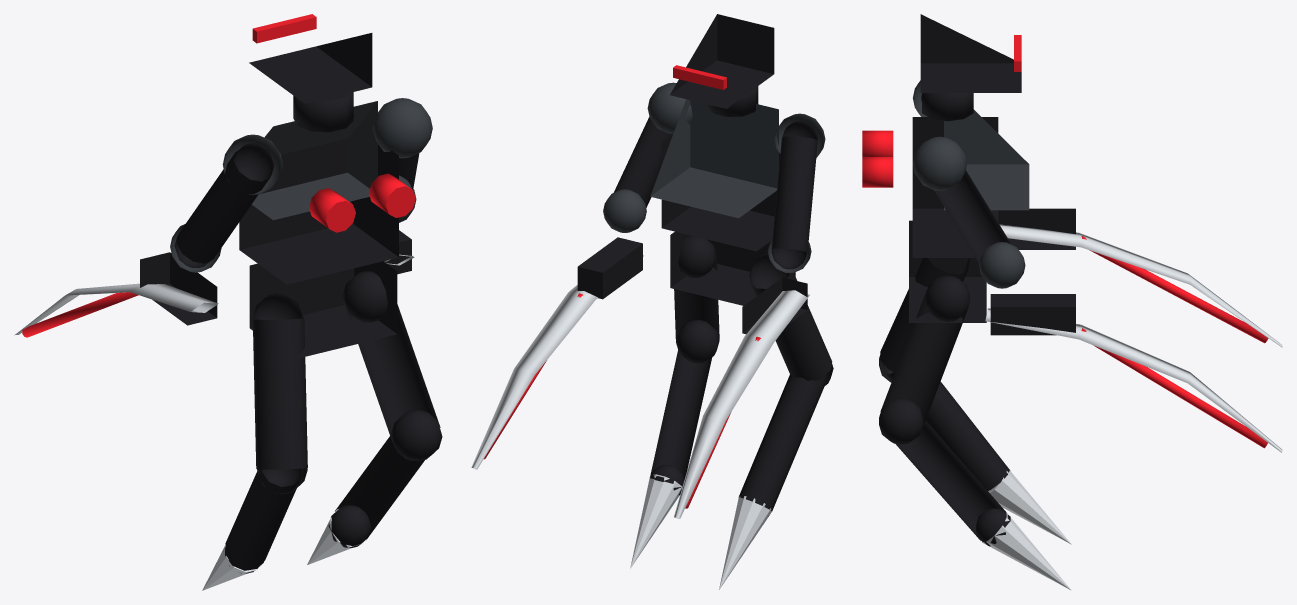
Rendered from Robot_Blade.obj.
3 renders of one model, left to right at view 1: azimuth 30°, elevation 25°; view 2: azimuth 150°, elevation 25°; view 3: azimuth 270°, elevation 25°, orthographic. The views are drawn at different scales.
Parts seen in each view (by area): view 1: Robot_Blade; view 2: Robot_Blade; view 3: Robot_Blade.
Boxes of the visible parts, x1,y1,x2,y2 form: Robot_Blade: (14, 14, 442, 590); Robot_Blade: (471, 14, 833, 589); Robot_Blade: (862, 14, 1282, 590).
Size of the model in its own units: 0.6698 by 1.53 by 1.08.
